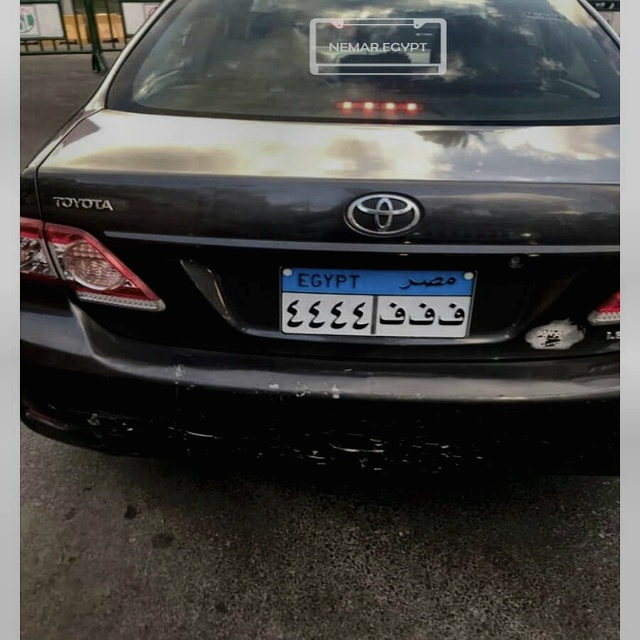License Plate: (275, 263, 480, 341)
